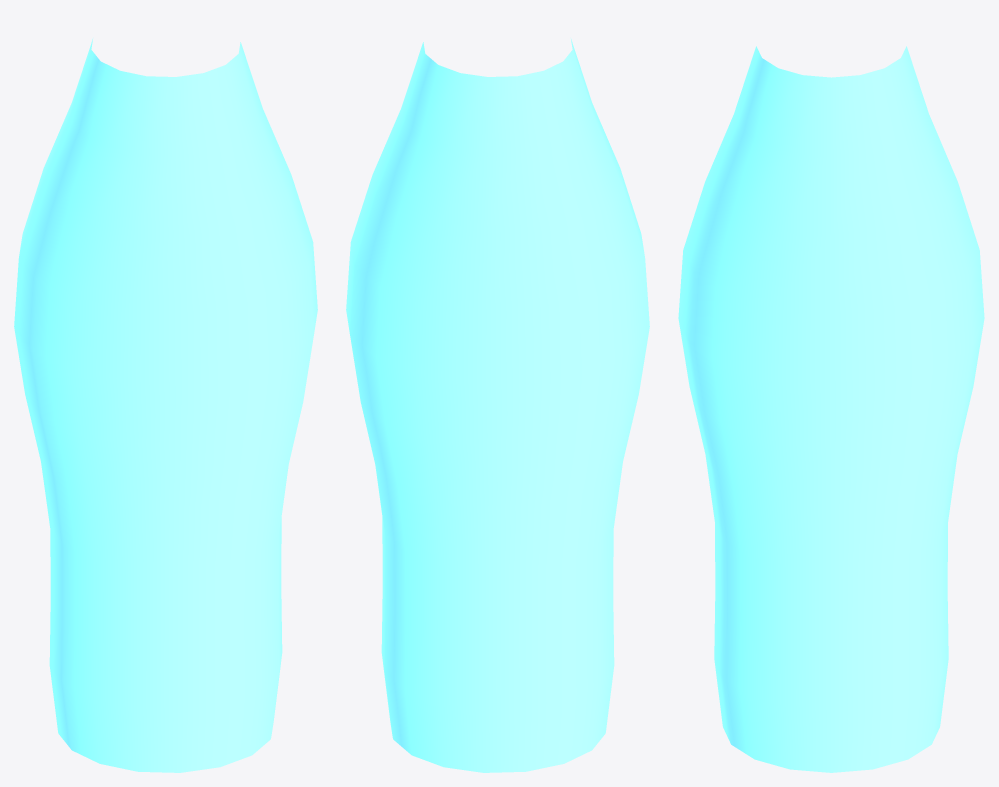
File: HERMES_ARGON_avatar_v1_LOD1_anim.glb
3 renders of one model, left to right at view 1: azimuth 30°, elevation 25°; view 2: azimuth 150°, elevation 25°; view 3: azimuth 270°, elevation 25°, orthographic.
Visible parts, largest first — view 1: Root_Pelvis; view 2: Root_Pelvis; view 3: Root_Pelvis.
Boxes of the visible parts, left/top/right/bottom form: Root_Pelvis: left=14, top=39, right=317, bottom=772; Root_Pelvis: left=346, top=39, right=649, bottom=772; Root_Pelvis: left=678, top=46, right=984, bottom=772.
Size of the model in its own units: 0.733 by 1.8 by 0.733.
